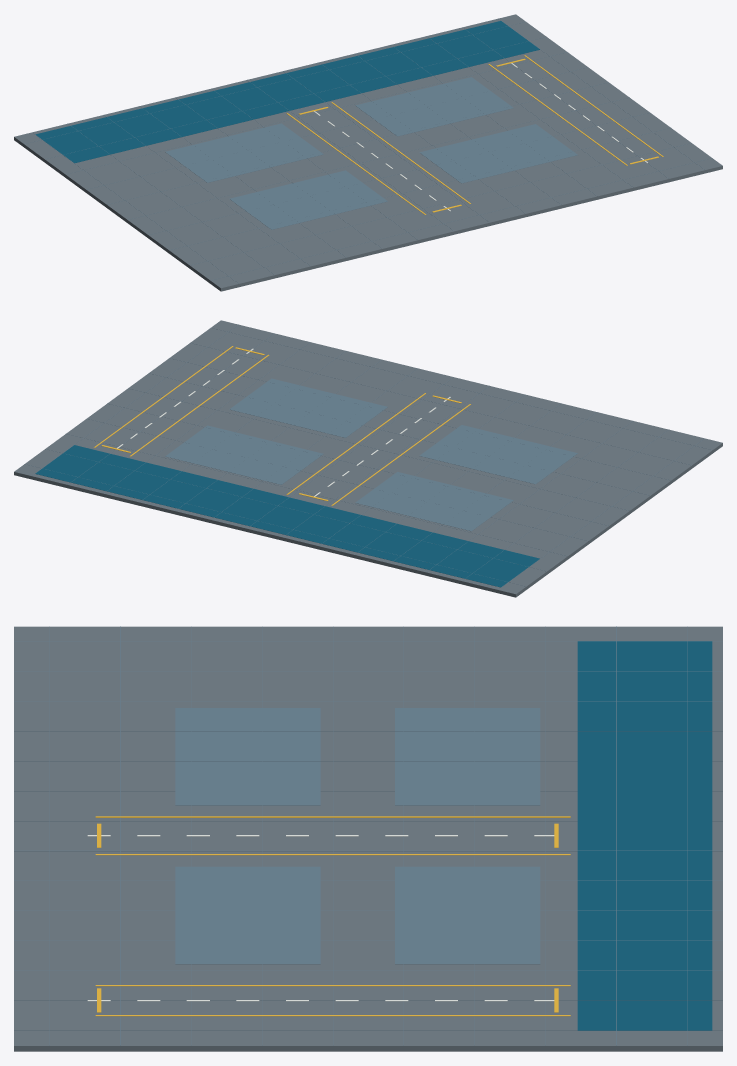
The model's file is floor.db9174760760.glb.
3 renders of one model, top to bottom at view 1: azimuth 30°, elevation 25°; view 2: azimuth 150°, elevation 25°; view 3: azimuth 270°, elevation 25°, orthographic. The views are drawn at different scales.
Visible parts, largest first — view 1: slab_0001, storage_zone_0006, production_zone_0004, production_zone_0005, production_zone_0002, production_zone_0003; view 2: slab_0001, storage_zone_0006, production_zone_0004, production_zone_0002, production_zone_0003, production_zone_0005; view 3: slab_0001, storage_zone_0006, production_zone_0005, production_zone_0004, production_zone_0002, production_zone_0003, slab_joint_0038, lane_edge_0007, lane_edge_0008, lane_edge_0009, lane_edge_0010, slab_joint_0031 (+8 smaller).
Boxes of the visible parts, left/top/right/bottom form: slab_0001: left=14, top=14, right=722, bottom=291; storage_zone_0006: left=35, top=21, right=539, bottom=163; production_zone_0004: left=355, top=77, right=513, bottom=136; production_zone_0005: left=419, top=124, right=577, bottom=183; production_zone_0002: left=165, top=123, right=323, bottom=182; production_zone_0003: left=229, top=170, right=387, bottom=229; slab_0001: left=14, top=320, right=722, bottom=597; storage_zone_0006: left=35, top=445, right=539, bottom=587; production_zone_0004: left=165, top=425, right=323, bottom=484; production_zone_0002: left=355, top=472, right=513, bottom=531; production_zone_0003: left=419, top=425, right=577, bottom=484; production_zone_0005: left=229, top=378, right=387, bottom=437; slab_0001: left=14, top=626, right=722, bottom=1051; storage_zone_0006: left=577, top=641, right=712, bottom=1030; production_zone_0005: left=175, top=866, right=320, bottom=964; production_zone_0004: left=395, top=866, right=540, bottom=964; production_zone_0002: left=395, top=708, right=540, bottom=805; production_zone_0003: left=175, top=708, right=320, bottom=805; slab_joint_0038: left=14, top=850, right=722, bottom=851; lane_edge_0007: left=95, top=816, right=570, bottom=817; lane_edge_0008: left=95, top=854, right=570, bottom=855; lane_edge_0009: left=95, top=985, right=570, bottom=986; lane_edge_0010: left=95, top=1015, right=570, bottom=1016; slab_joint_0031: left=14, top=641, right=722, bottom=641.
Size of the model in its own units: 28 by 0.2025 by 20.
